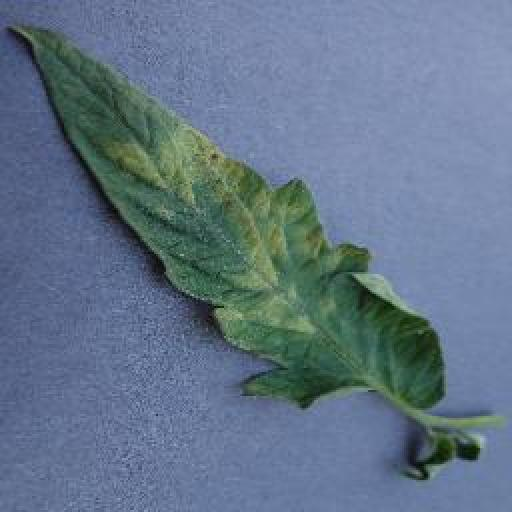Leaf Mold: (8, 20, 447, 411)
